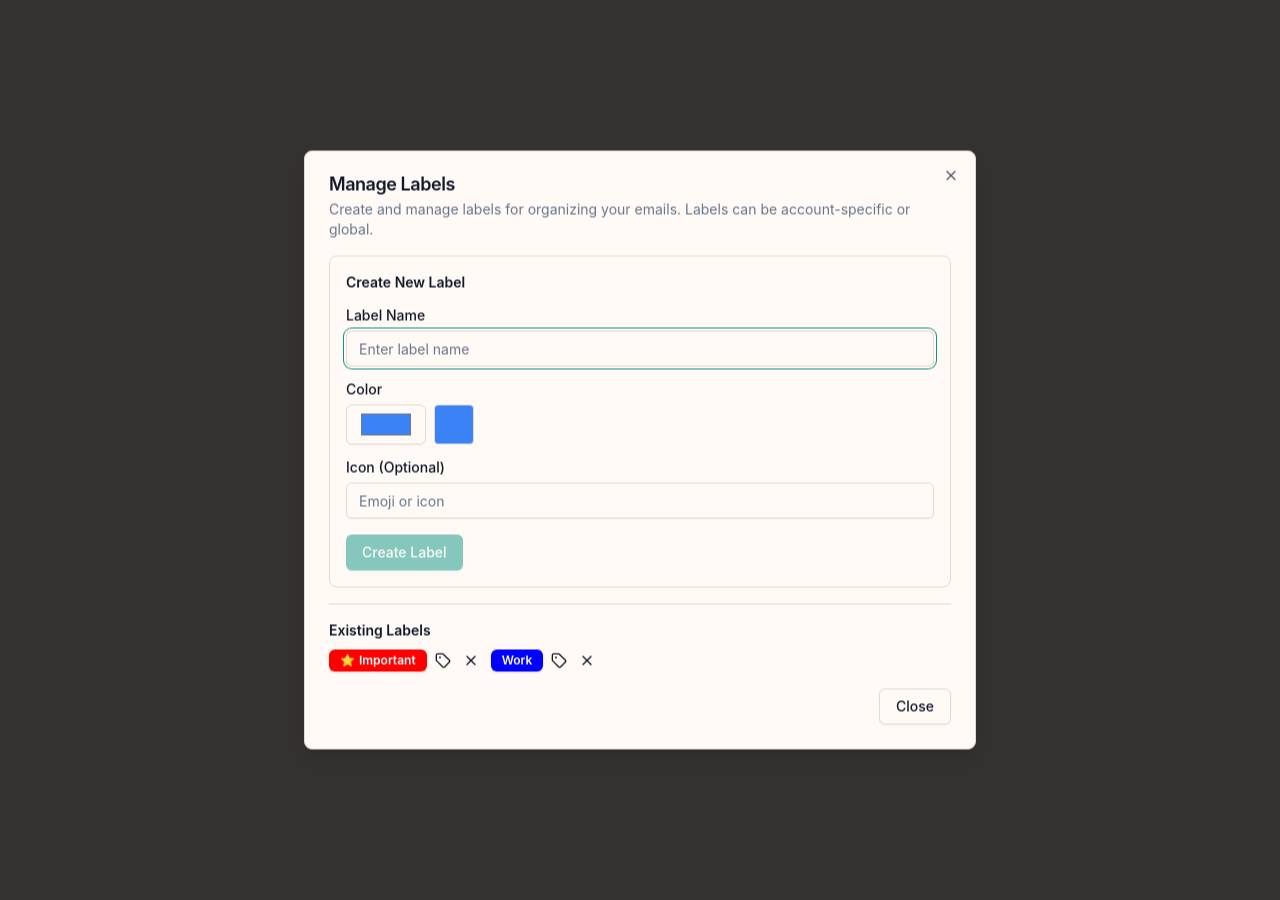
Scenario: LabelManager › delete label › should reset edit form if deleted label was being edited
Click the button named "Edit label" next to "Important" at (443, 660), box [431,648,455,672]
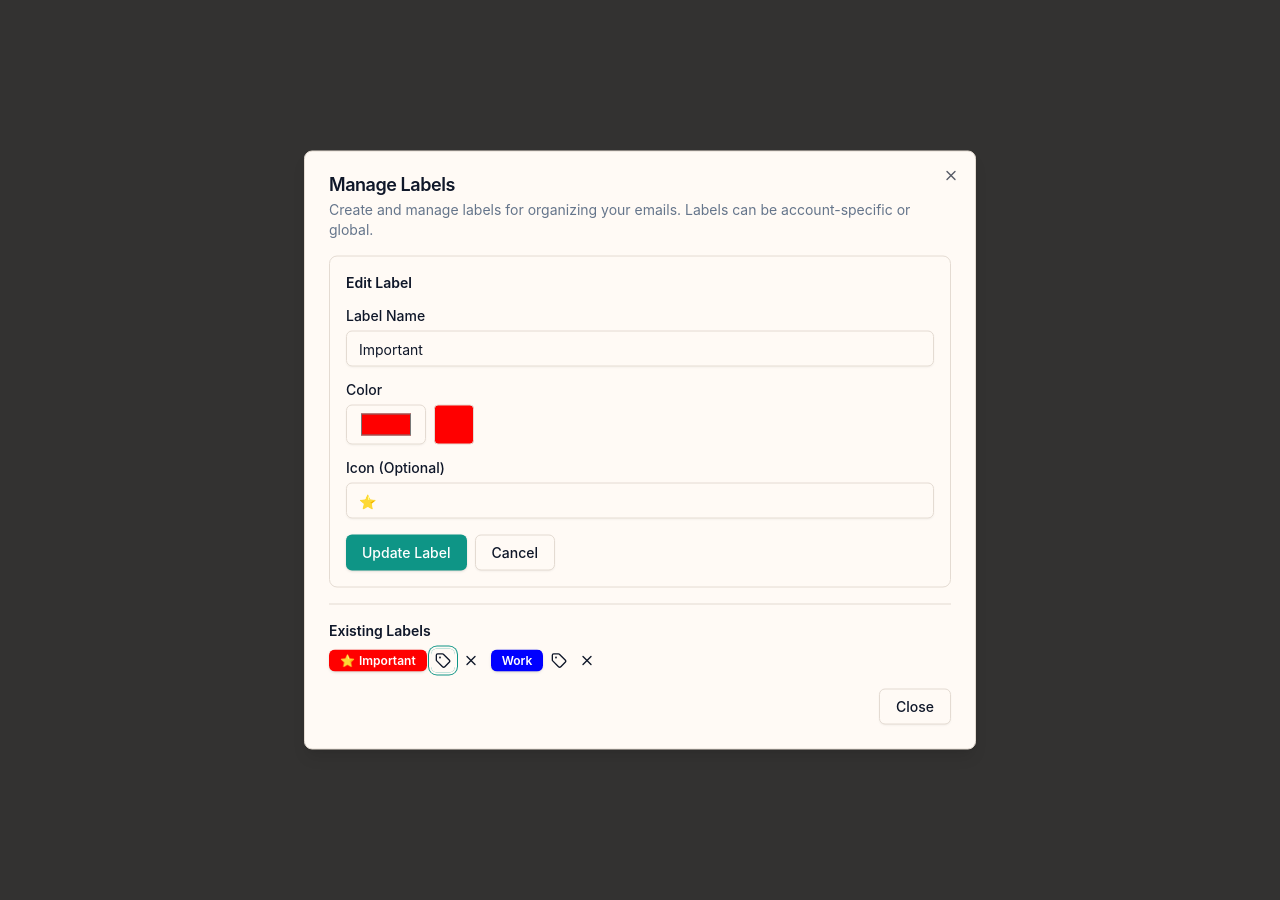
Click the button named "Delete label" next to "Important" at (471, 660), box [459,648,483,672]
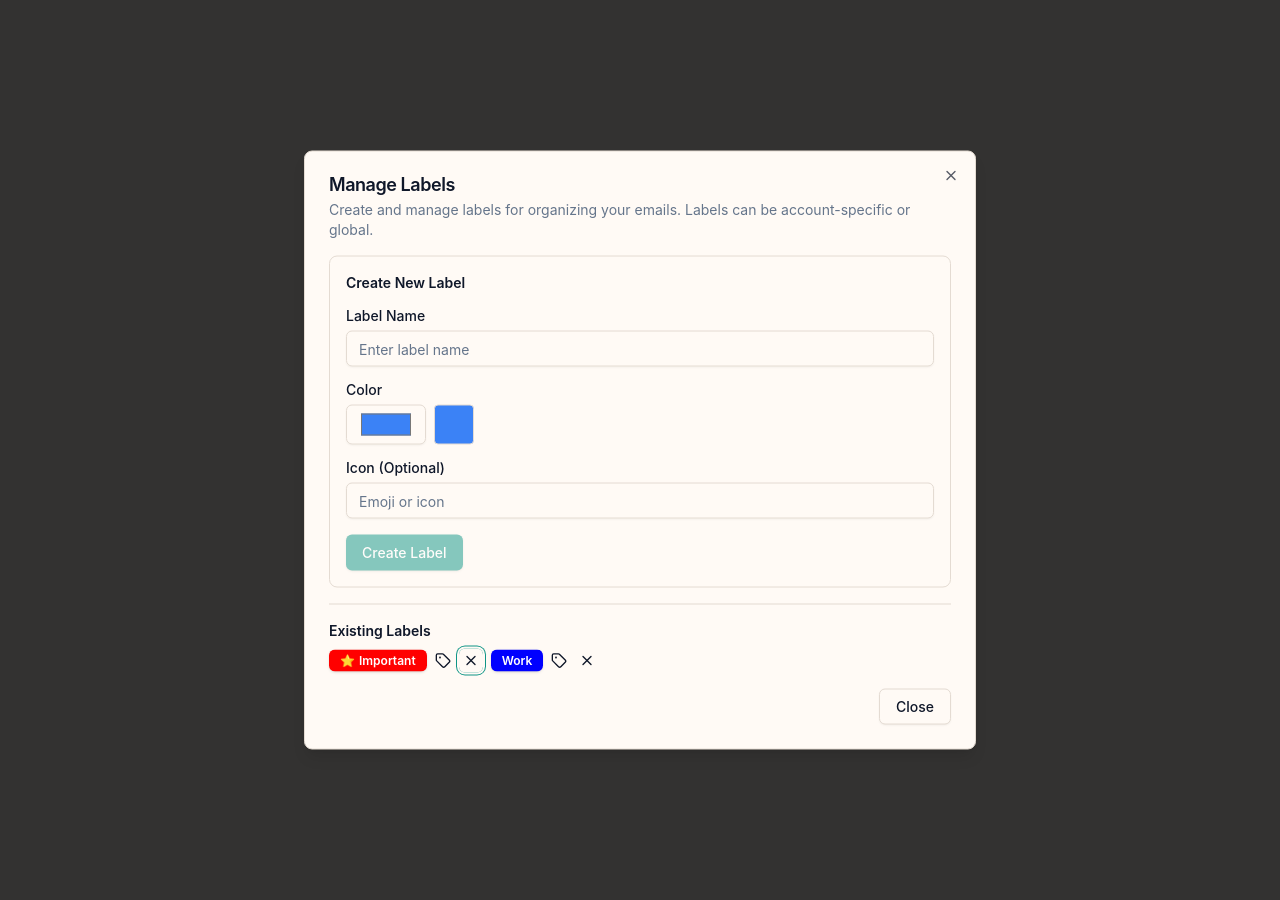
expect the heading "Create New Label" is shown: met, box [346,274,465,290]
